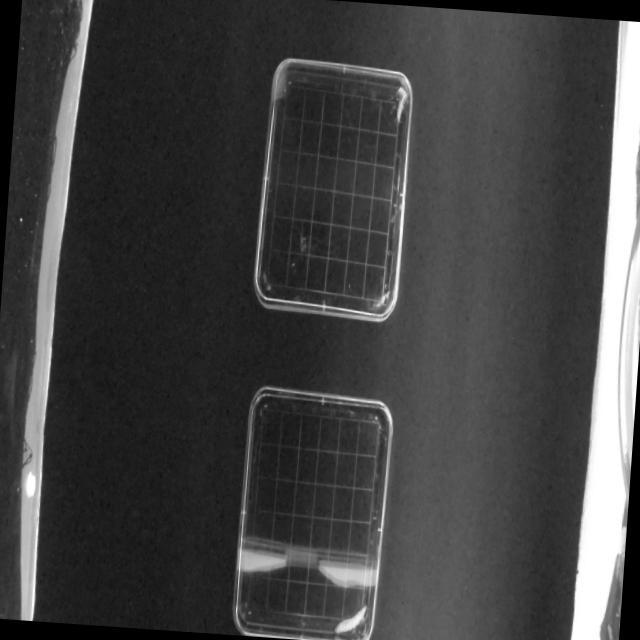larva: (333, 602, 368, 638), (394, 85, 408, 122)
